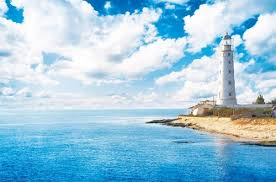sea: (2, 105, 274, 182)
sky: (1, 2, 276, 104)
